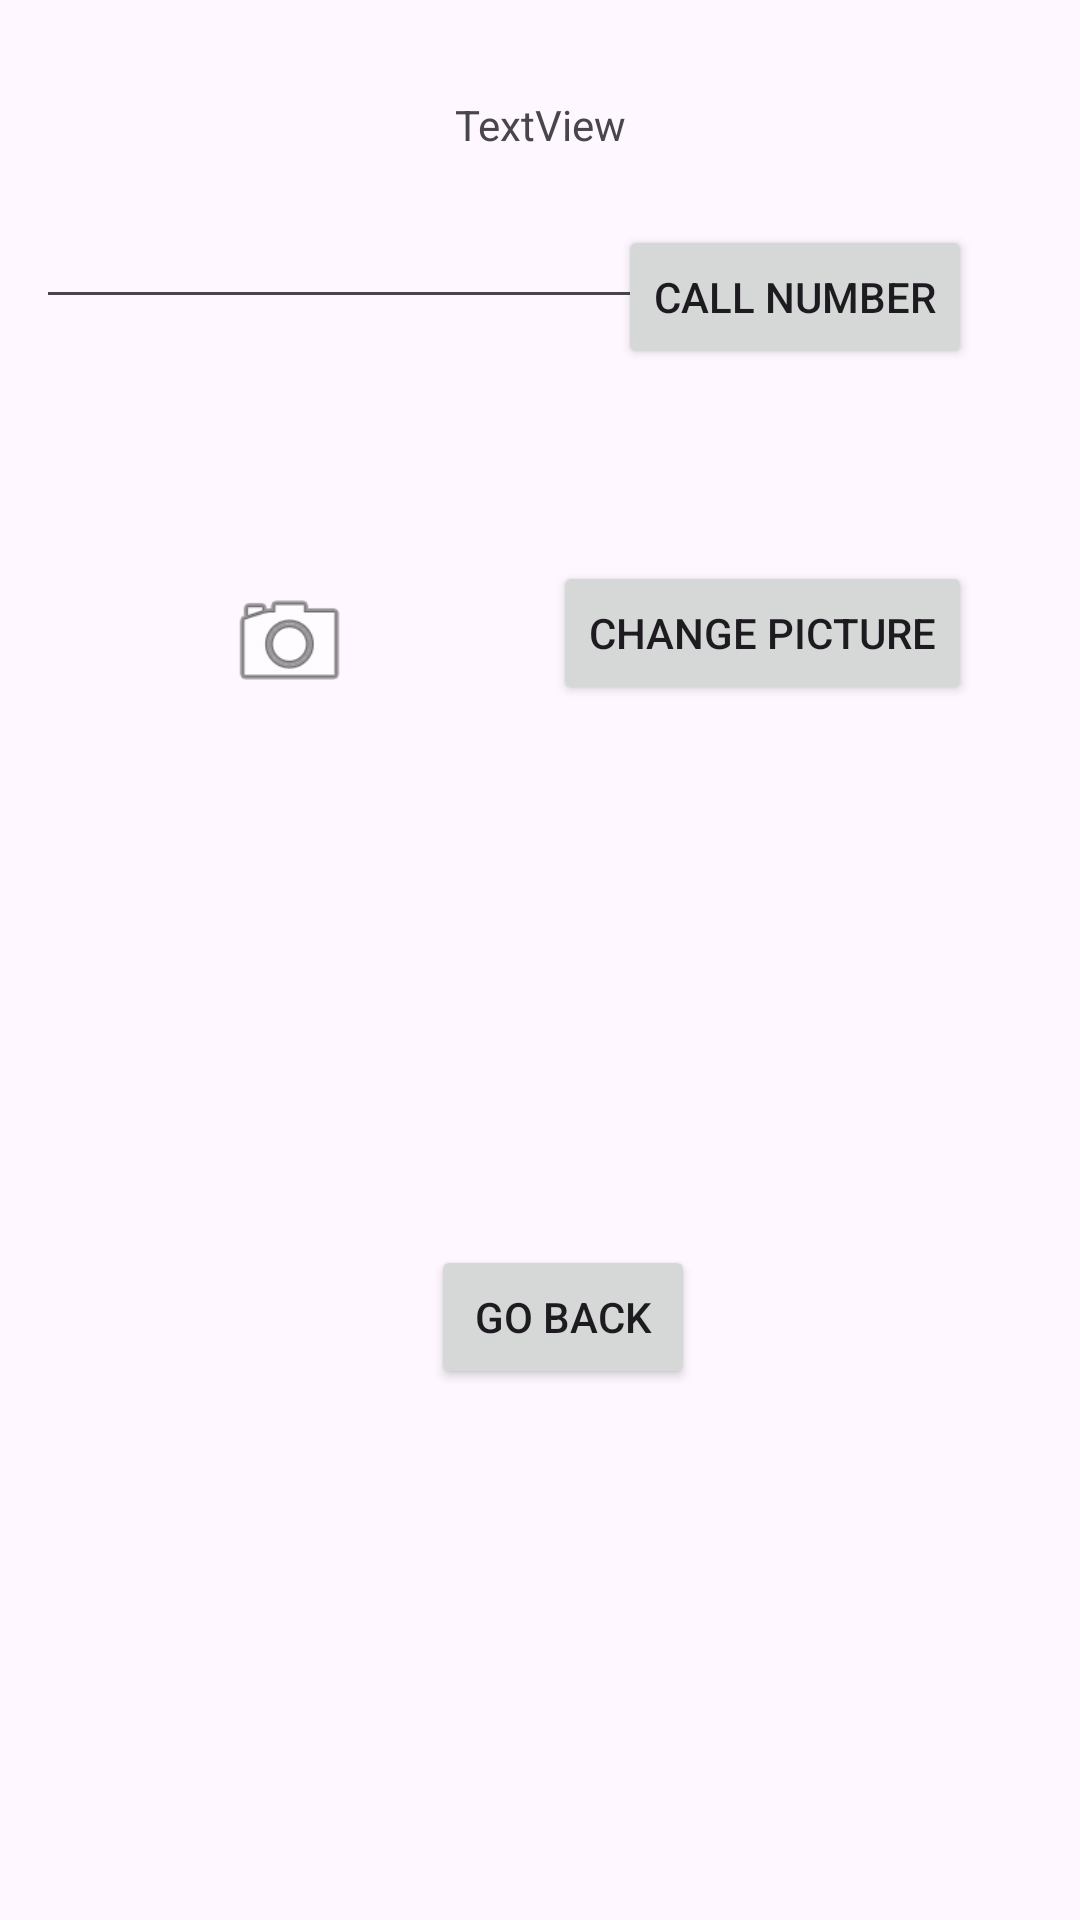

Screen size 1080px×1920px. Icon name, then its box in pixels as [left=x1, top=y1, right=x2, bottom=y2]:
camera: [left=240, top=600, right=339, bottom=680]
